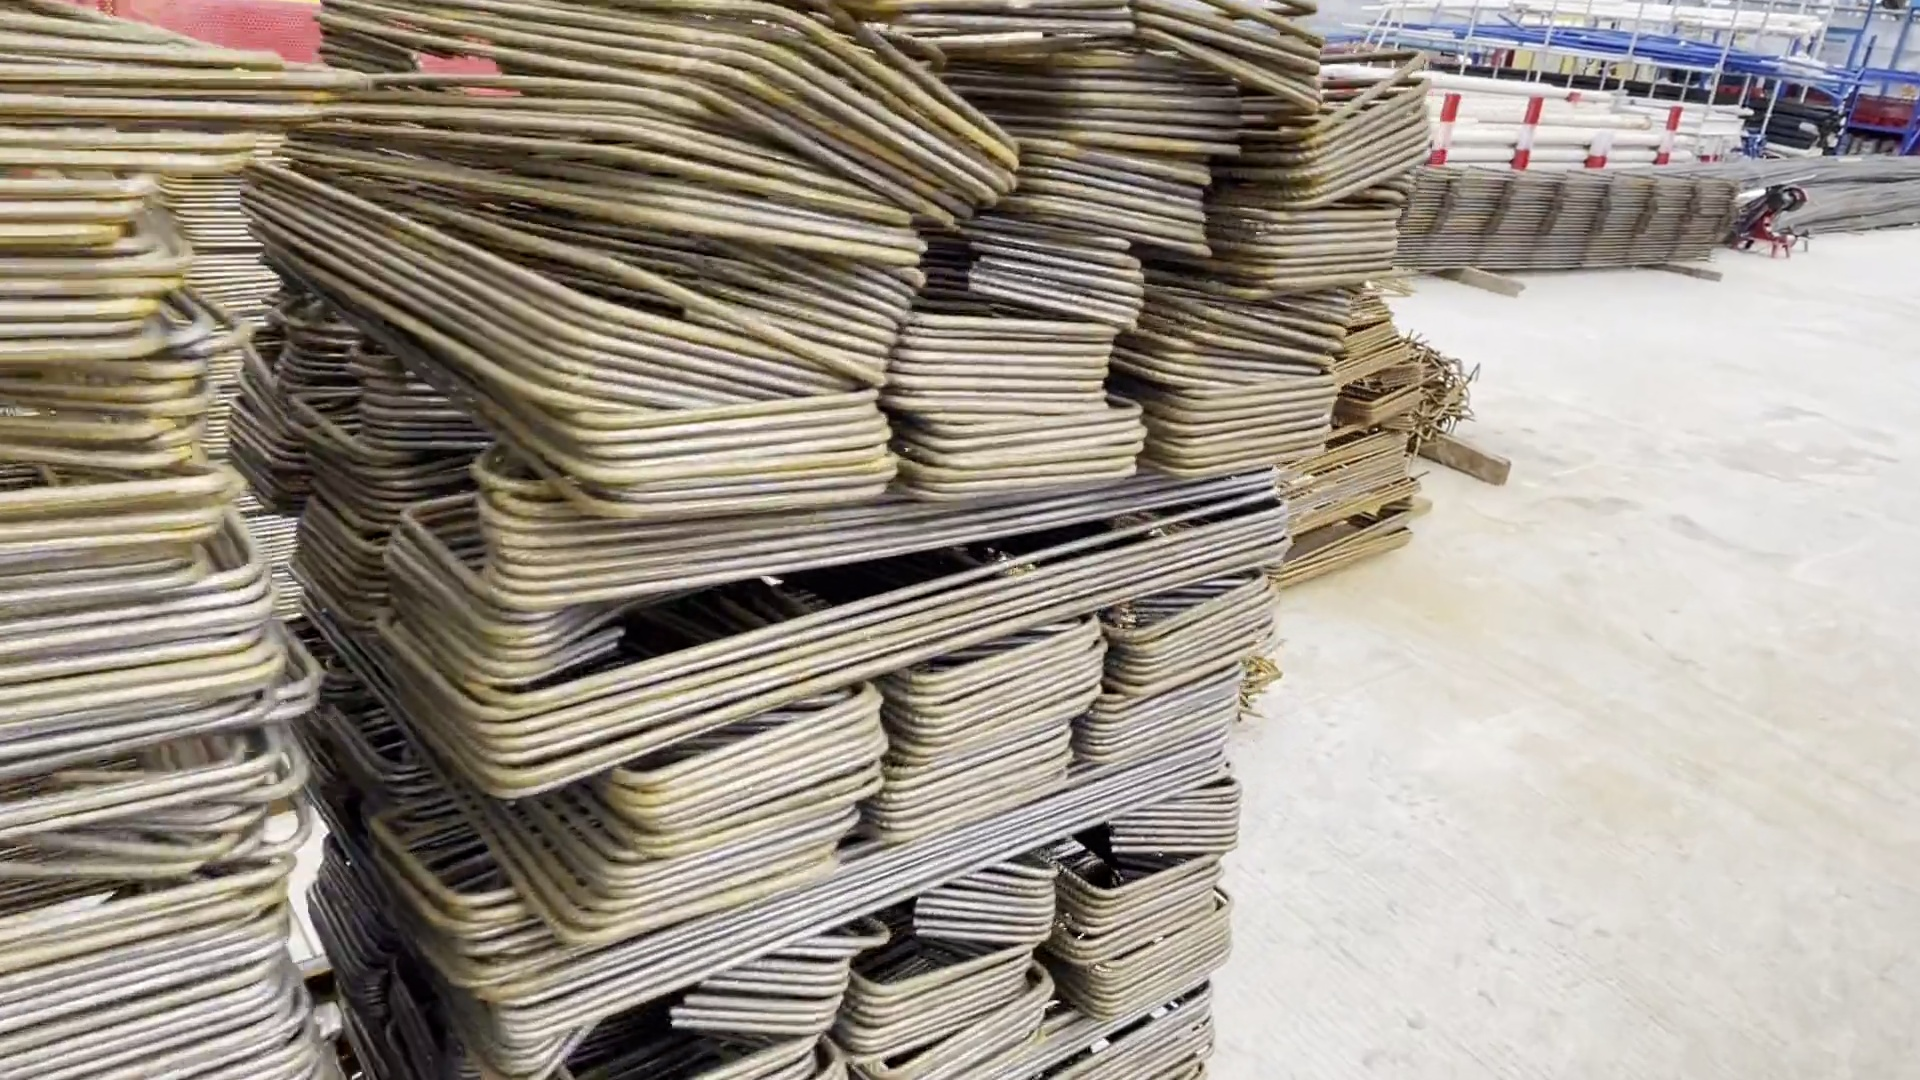rebar: (1698, 160, 1920, 229)
